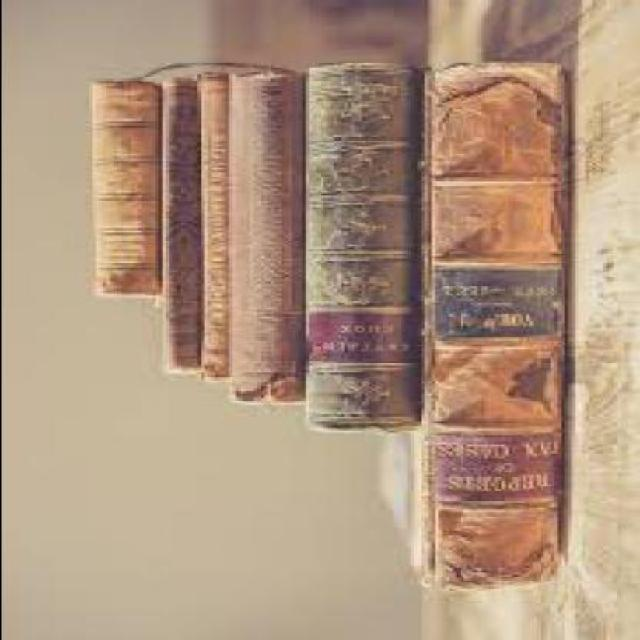PAPER: (367, 64, 567, 594), (297, 63, 420, 435), (221, 75, 304, 407), (84, 82, 158, 298), (154, 78, 200, 377), (192, 74, 231, 381)
